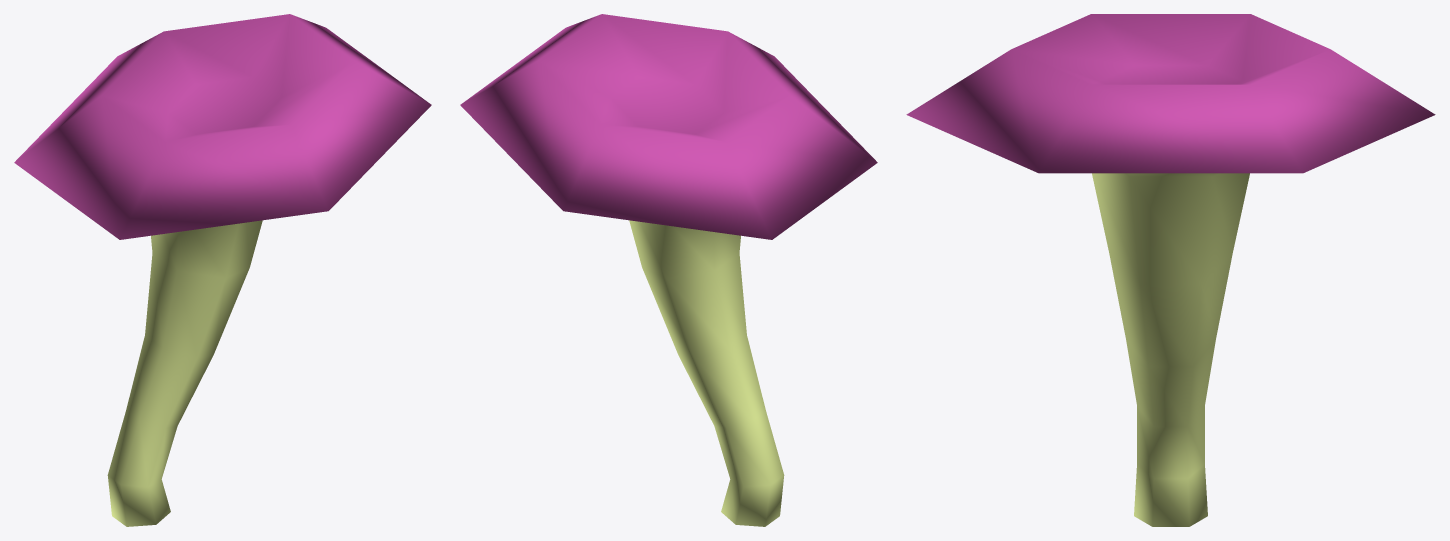
Rendered from fungus pink.obj.
3 views of the same model, side by side, from view 1: azimuth 30°, elevation 25°; view 2: azimuth 150°, elevation 25°; view 3: azimuth 270°, elevation 25° (orthographic). The views are drawn at different scales.
Parts seen in each view (by area): view 1: fungo.042; view 2: fungo.042; view 3: fungo.042.
Boxes of the visible parts, x1,y1,x2,y2 form: fungo.042: [14, 14, 431, 526]; fungo.042: [460, 14, 877, 526]; fungo.042: [906, 14, 1435, 526].
Bounding box in the file's own units: 0.8552 × 1.14 × 1.
